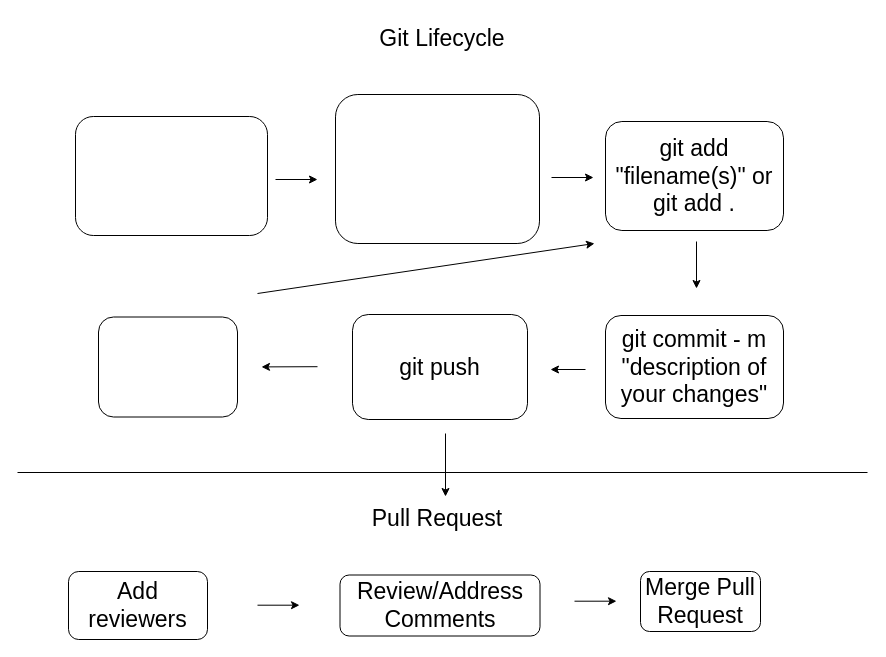
Some shapes in this 886 by 657 pixel diagram are drawn without their labels. The centre of each missing label's shape, as x and y in pixels:
Code some more: (168,366)
git branch "nameYourbranch" Start Coding on your new branch!: (437,169)
git pull main: brings in all the changes from the branch: (171,176)
